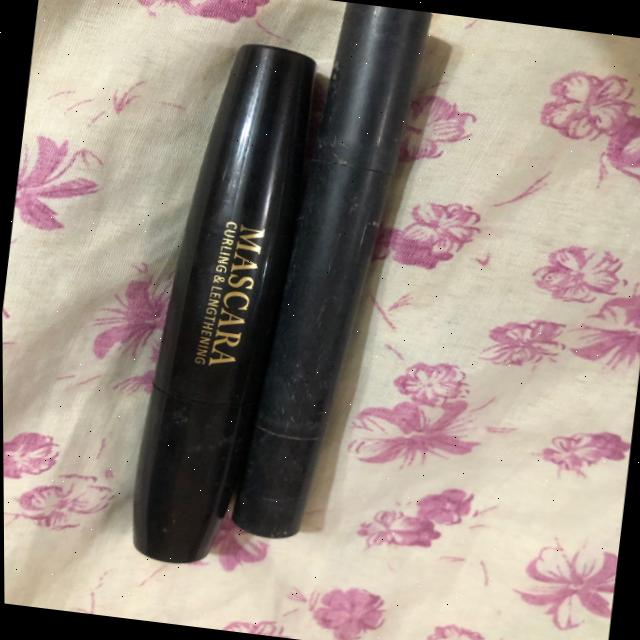mascara: (209, 0, 461, 575), (101, 15, 337, 597)
